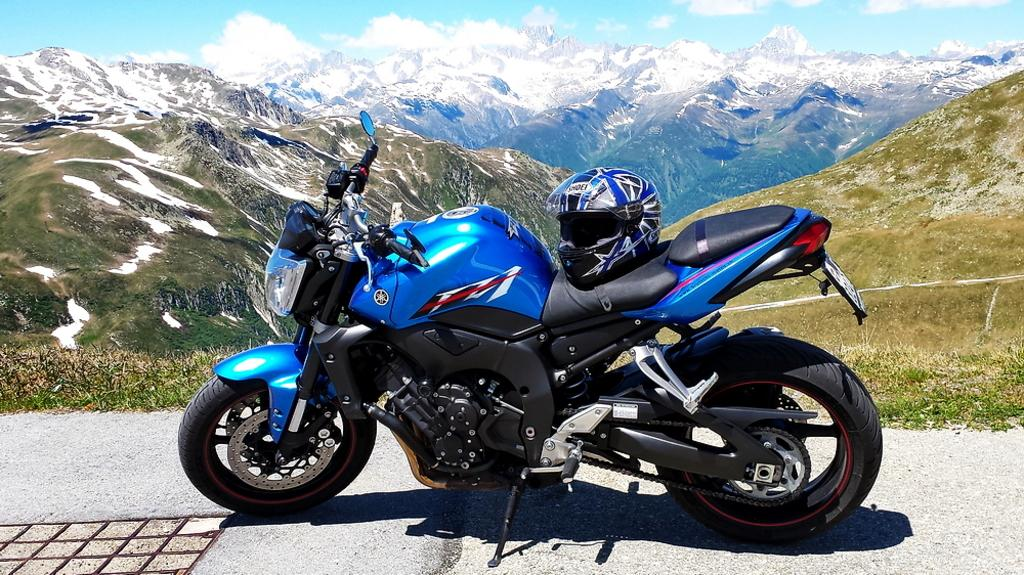helmet: (545, 167, 662, 283)
